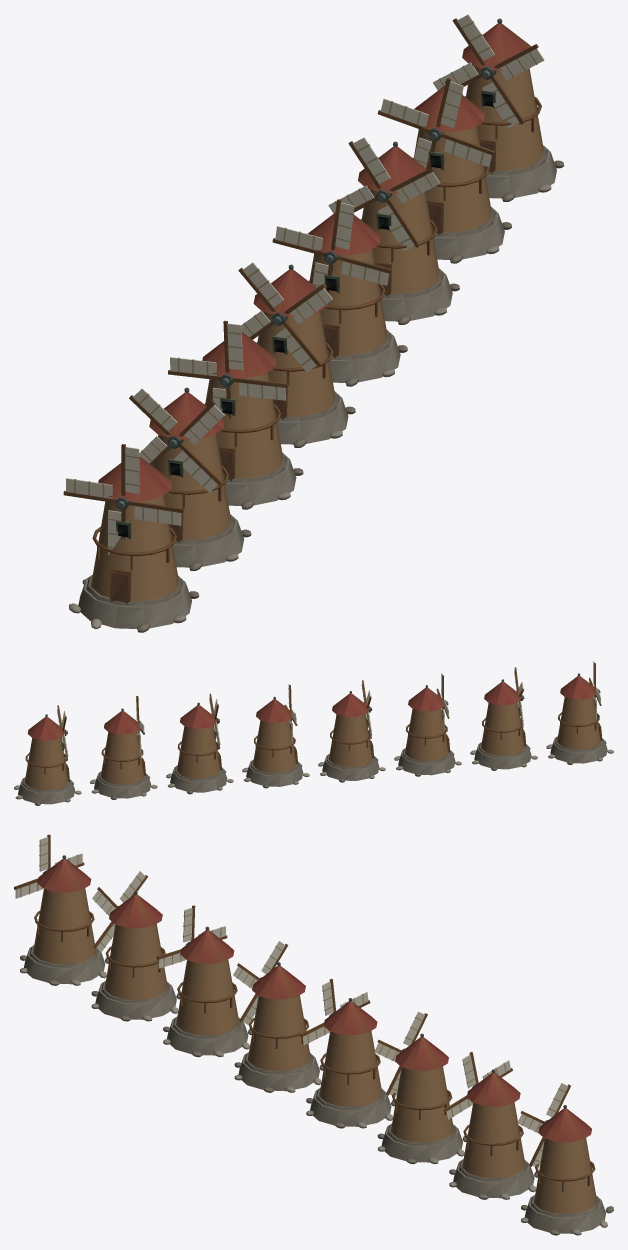
File: audit-hf-windmill-blades-spin-side.glb
3 views of the same model, one above another, from view 1: azimuth 30°, elevation 25°; view 2: azimuth 150°, elevation 25°; view 3: azimuth 270°, elevation 25° (orthographic). The views are drawn at different scales.
Parts seen in each view (by area): view 1: windmillHardware (×8), windmillTower (×8), windmillBlades (×8); view 2: windmillHardware (×8), windmillTower (×8), windmillBlades (×7); view 3: windmillTower (×8), windmillHardware (×8), windmillBlades (×8).
Boxes of the visible parts, bbox=[...] form: windmillHardware (×8): bbox=[69, 18, 563, 632]; windmillTower (×8): bbox=[91, 66, 543, 601]; windmillBlades (×8): bbox=[63, 14, 544, 554]; windmillHardware (×8): bbox=[14, 673, 613, 805]; windmillTower (×8): bbox=[24, 696, 600, 790]; windmillBlades (×7): bbox=[57, 667, 524, 760]; windmillTower (×8): bbox=[33, 888, 596, 1213]; windmillHardware (×8): bbox=[20, 855, 613, 1235]; windmillBlades (×8): bbox=[14, 834, 570, 1168].
Bounding box in the file's own units: 25 × 5.02 × 21.89.
